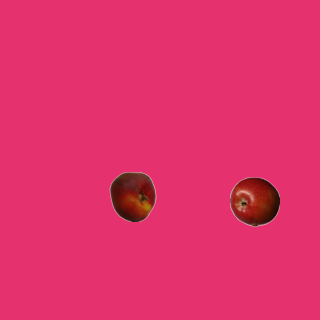Apple Braeburn: (229, 176, 279, 226)
Nectarine Flat: (107, 171, 157, 221)
